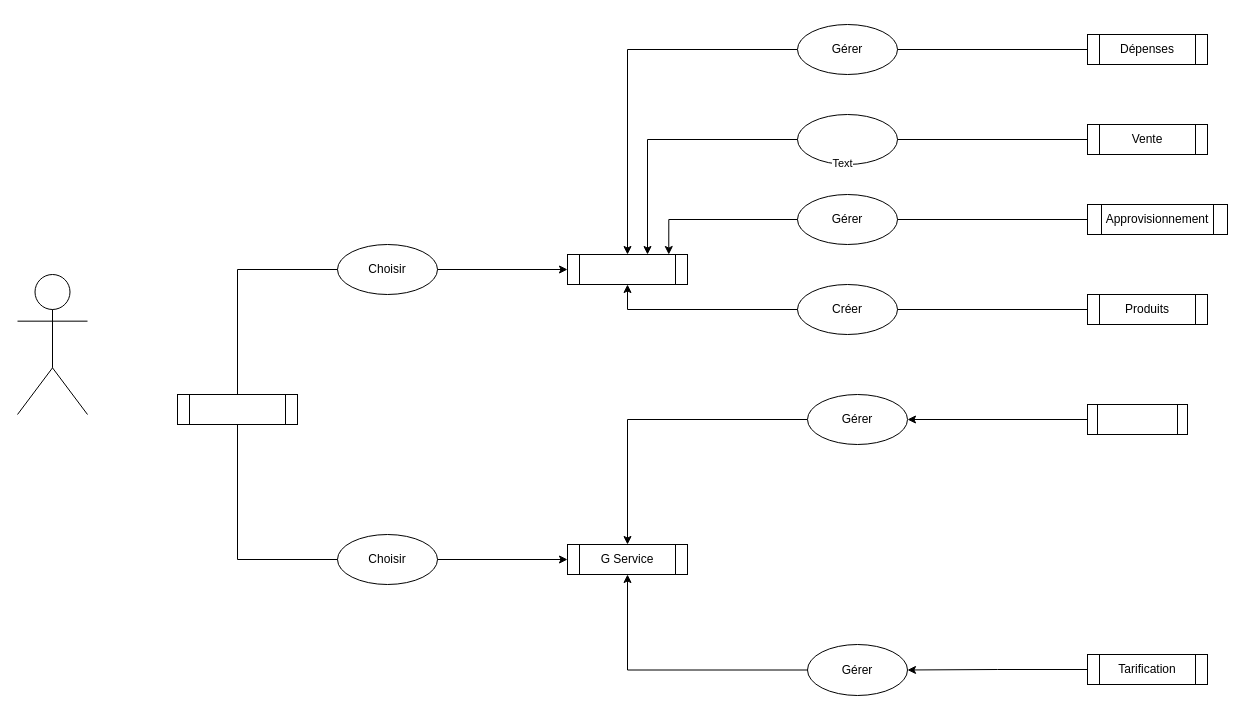
Image size: 1245x713. Some labels were removed from this diagram. Each missing label, with the centre of its shape:
"Actor" goes at [52,344].
"Enregistrer" goes at [847,139].
"G Stock" goes at [627,269].
"Login" goes at [237,409].
"Prestation" goes at [1137,419].
